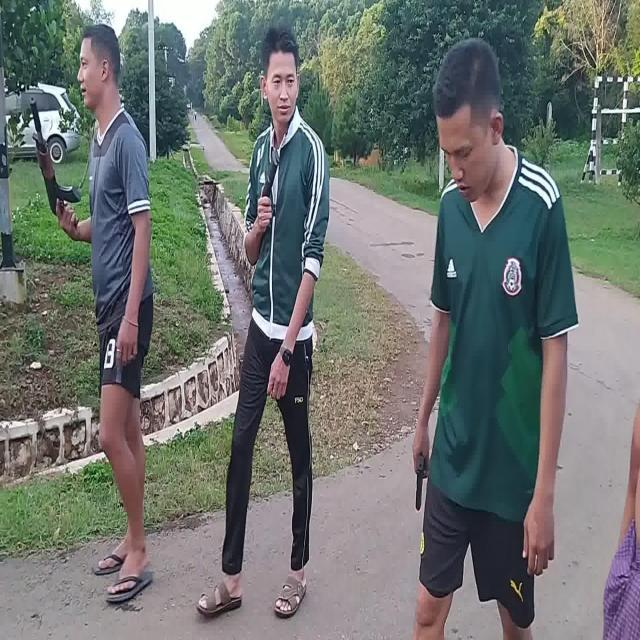gun: (30, 97, 81, 227), (416, 457, 424, 511)
